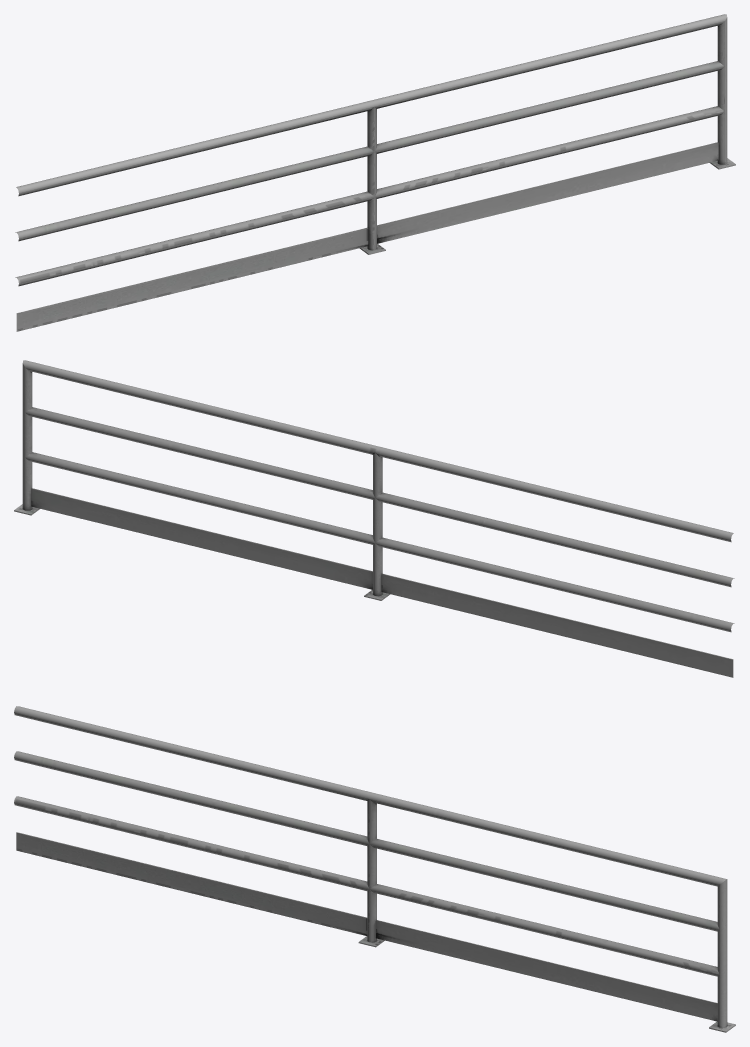
3 renders of one model, top to bottom at view 1: azimuth 30°, elevation 25°; view 2: azimuth 150°, elevation 25°; view 3: azimuth 330°, elevation 25°, orthographic.
Parts seen in each view (by area): view 1: body0_model0_lod0_mesh0; view 2: body0_model0_lod0_mesh0; view 3: body0_model0_lod0_mesh0.
Part boxes in pixels (box(x1,y1,x2,y2)): body0_model0_lod0_mesh0: box(15, 14, 735, 331); body0_model0_lod0_mesh0: box(14, 360, 734, 677); body0_model0_lod0_mesh0: box(14, 706, 735, 1032).
Size of the model in its own units: 166 by 33.01 by 3.99.
Materials: 1 (1 with a texture image).
